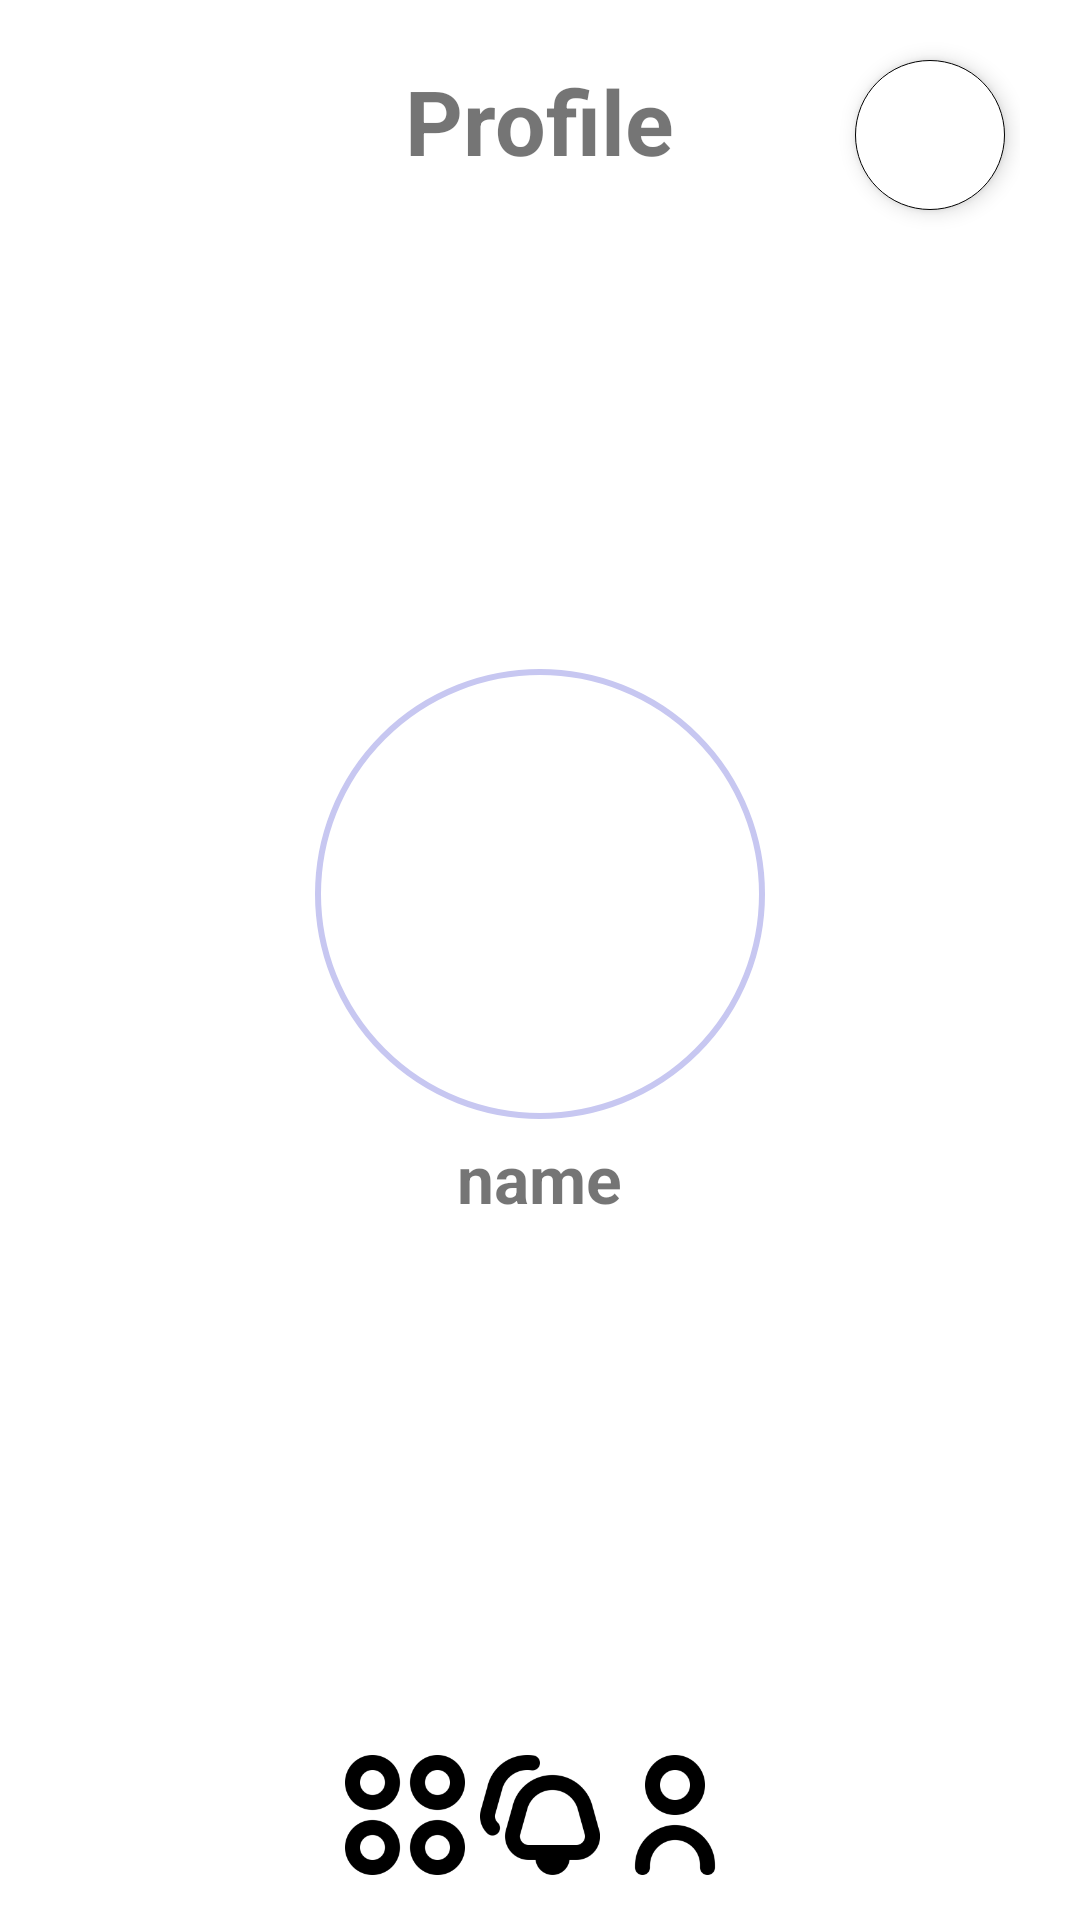

Where icons sit on this 1080px x 1920px app screen, as bbox=[x1, y1, x2, y2]:
menu: bbox=[345, 1755, 465, 1875]
notification: bbox=[480, 1755, 600, 1875]
user: bbox=[635, 1755, 715, 1875]
